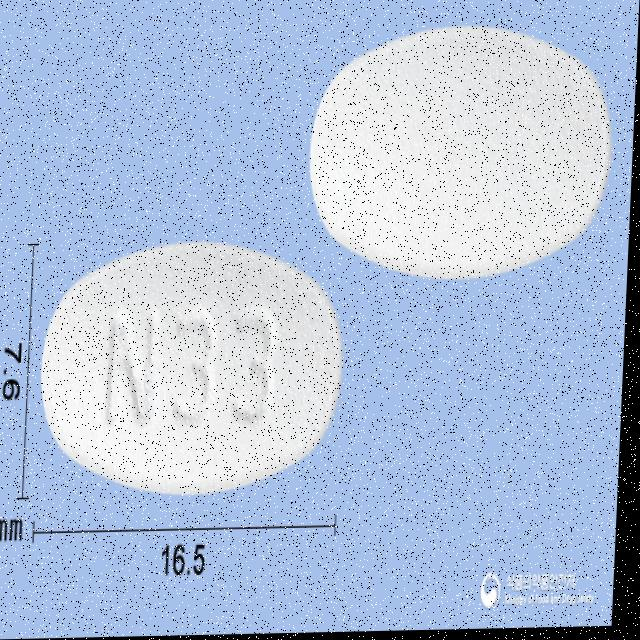Moxiclen Tab: (40, 238, 349, 499)
